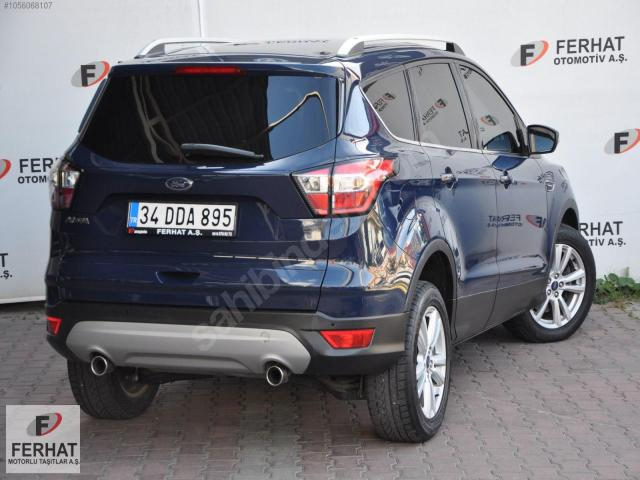plaka: (127, 201, 236, 236)
